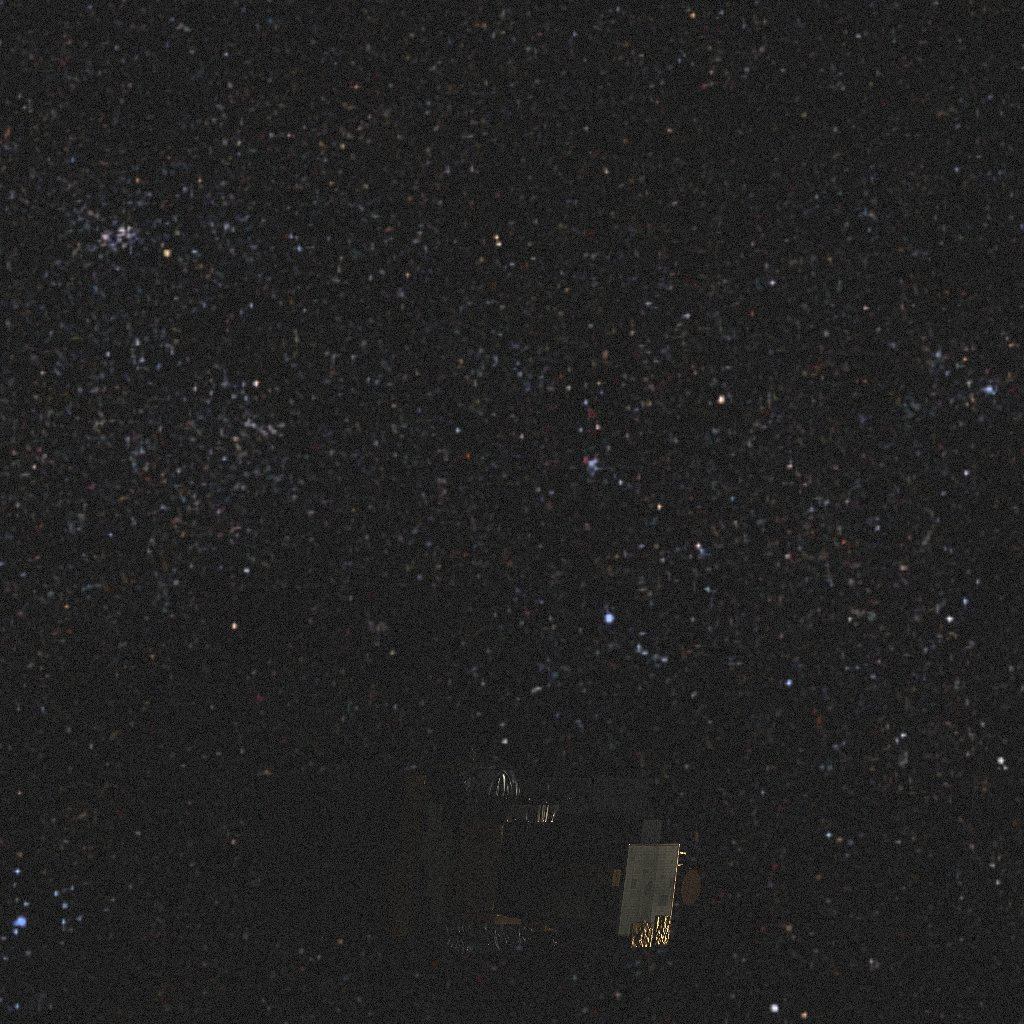soho: (254, 737, 701, 954)
